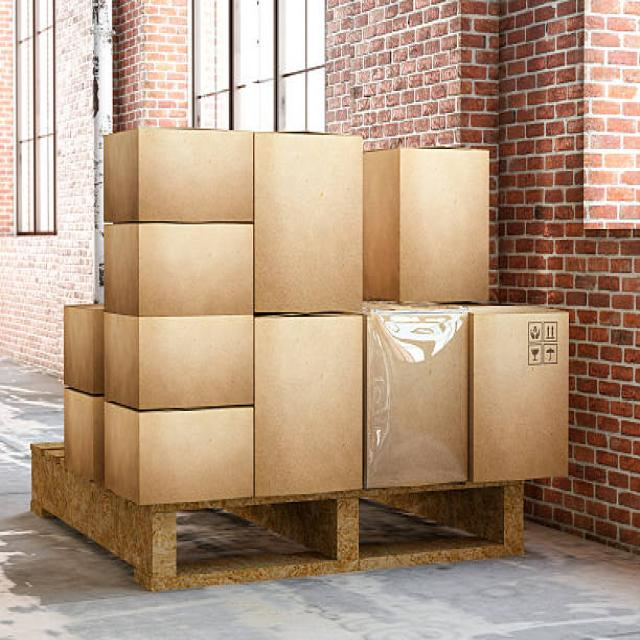Wooden-Pallets: (17, 436, 533, 602)
